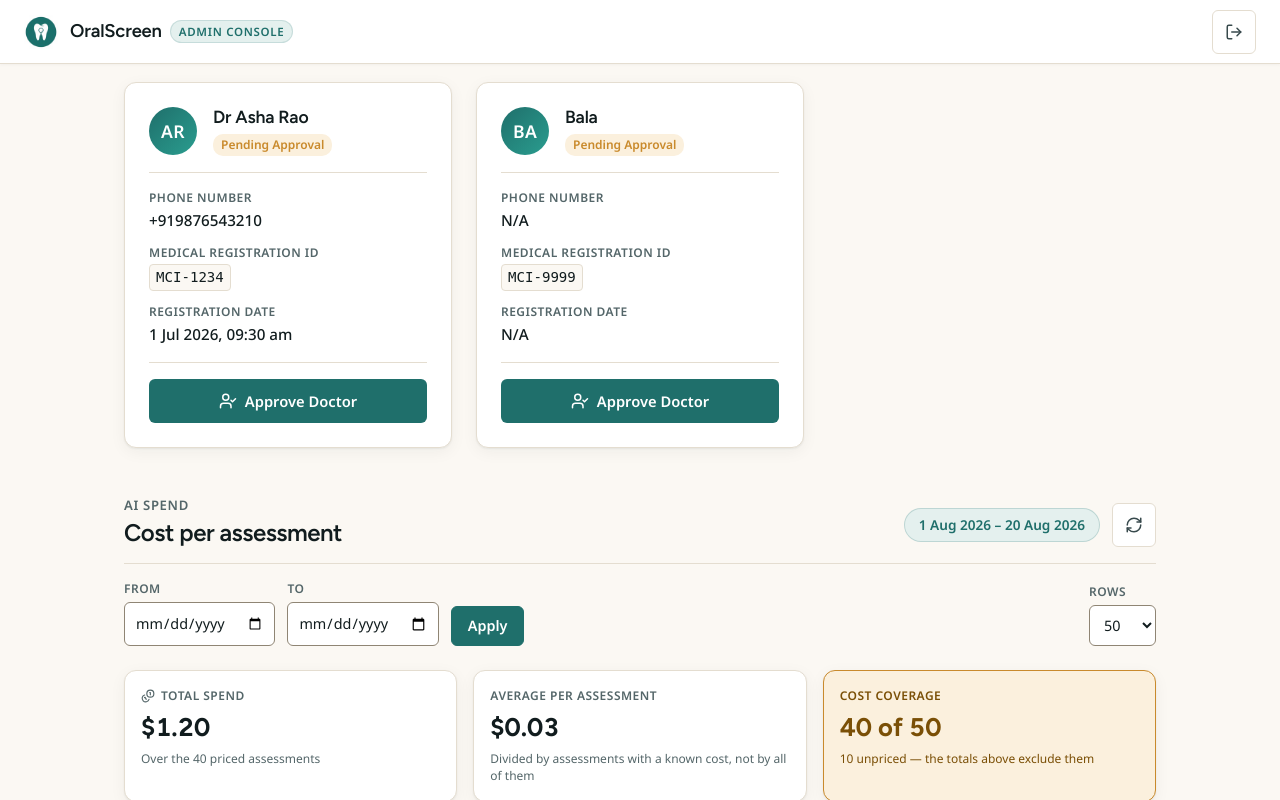
Test: approving a doctor › surfaces the server message when approval fails, keeping the card
(page scrolled)
expect the heading "Dr Asha Rao" is shown: met, box [213,106,308,127]
Click the button with aria-label "Approve Dr Asha Rao" at point(288, 401), box [149,379,427,423]
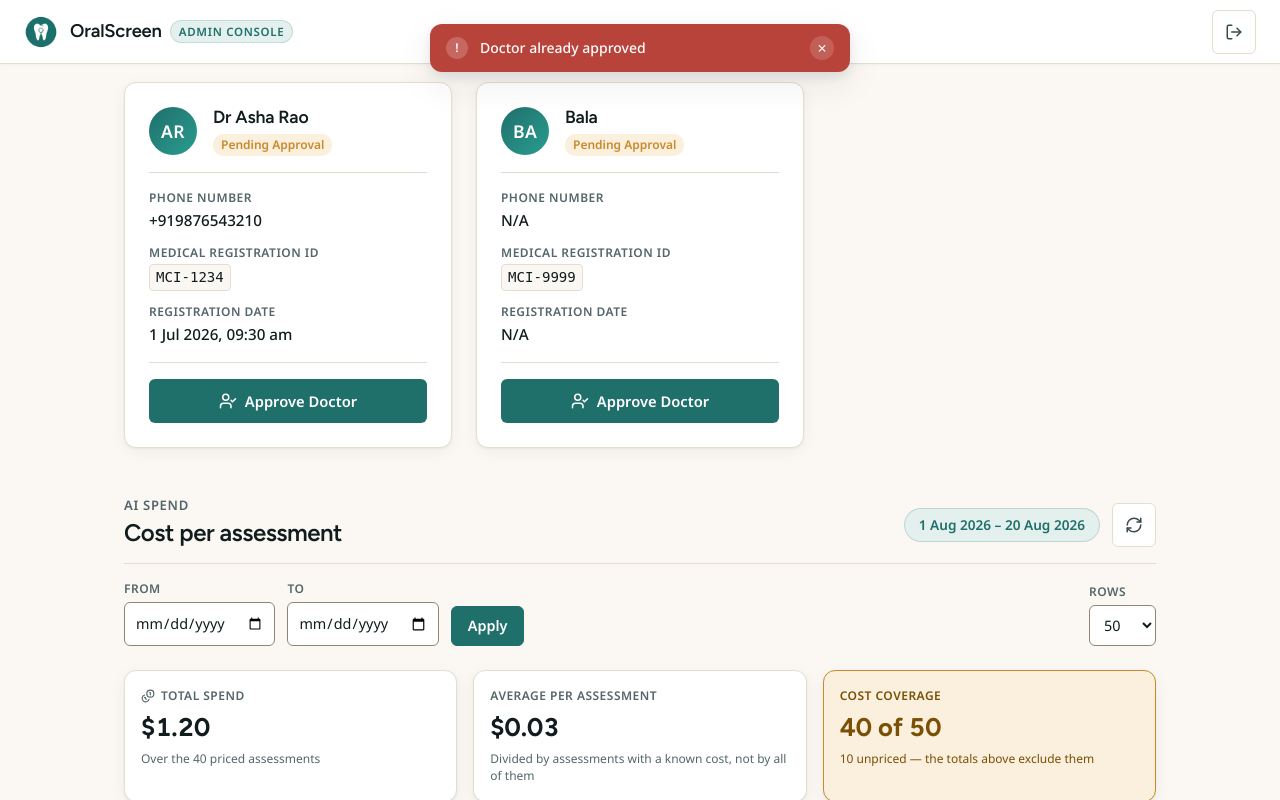
expect the heading "Dr Asha Rao" is shown: met, box [213,106,308,127]
expect the text "Doctor already approved" is shown: met, box [480,38,646,57]
